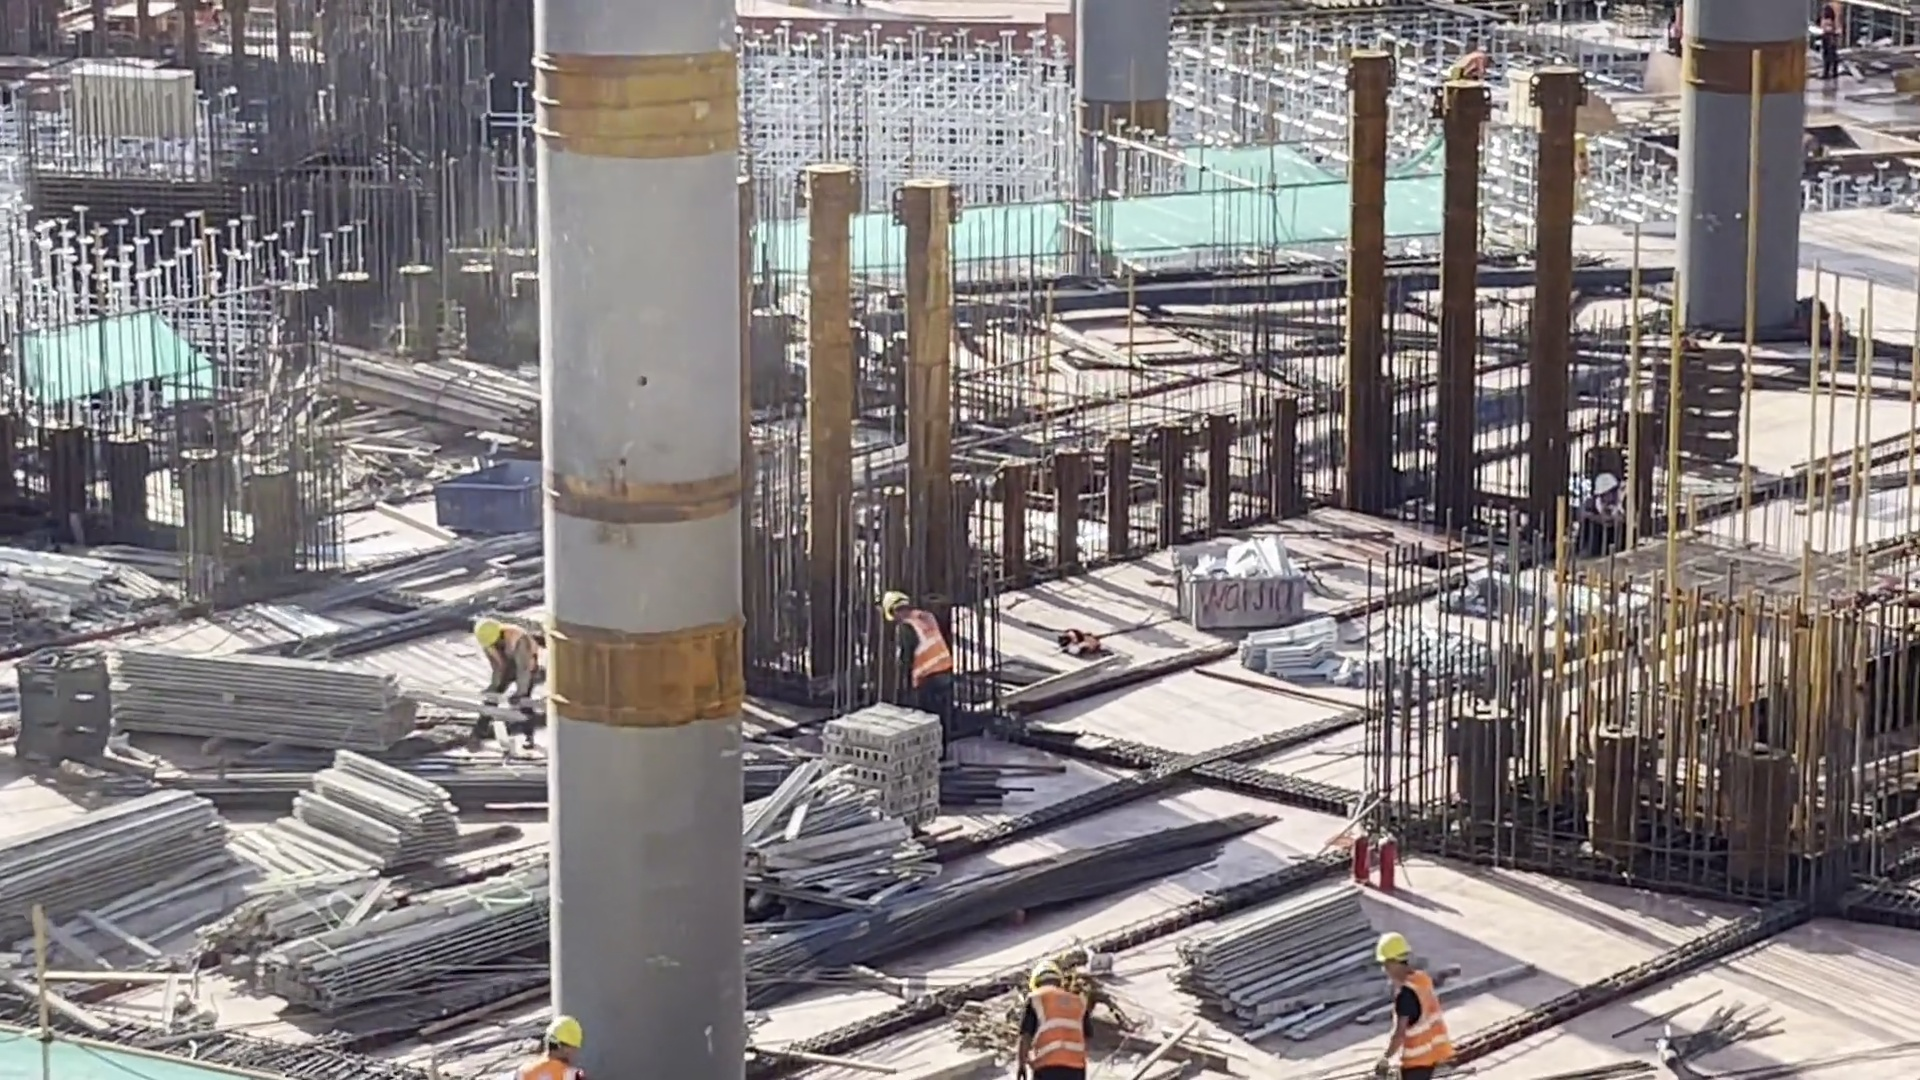helmet: (1368, 924, 1399, 961), (483, 616, 510, 649), (558, 1013, 581, 1040), (884, 591, 913, 613), (1028, 955, 1048, 983), (1591, 476, 1611, 497), (1445, 64, 1463, 85)
hopper: (1159, 534, 1298, 644), (448, 466, 541, 541)
person: (888, 579, 986, 751), (1369, 917, 1473, 1072), (454, 618, 544, 738), (1011, 953, 1089, 1080), (1573, 458, 1648, 585), (504, 1023, 572, 1080), (1819, 5, 1851, 86), (1438, 38, 1474, 83), (1668, 15, 1691, 63)
rebar: (857, 832, 1178, 945), (98, 761, 541, 816), (279, 515, 566, 576)
vest: (1029, 964, 1098, 1071), (1391, 977, 1441, 1080), (909, 629, 959, 684), (494, 629, 543, 677), (1592, 500, 1623, 529), (1823, 1, 1845, 41), (1660, 5, 1683, 42), (1461, 52, 1488, 72)
wood: (369, 357, 538, 439), (83, 62, 213, 134)
